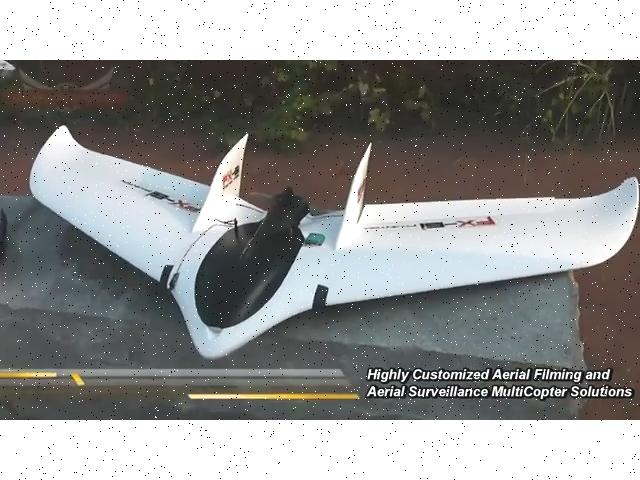Anti-Drone: (10, 110, 640, 365)
